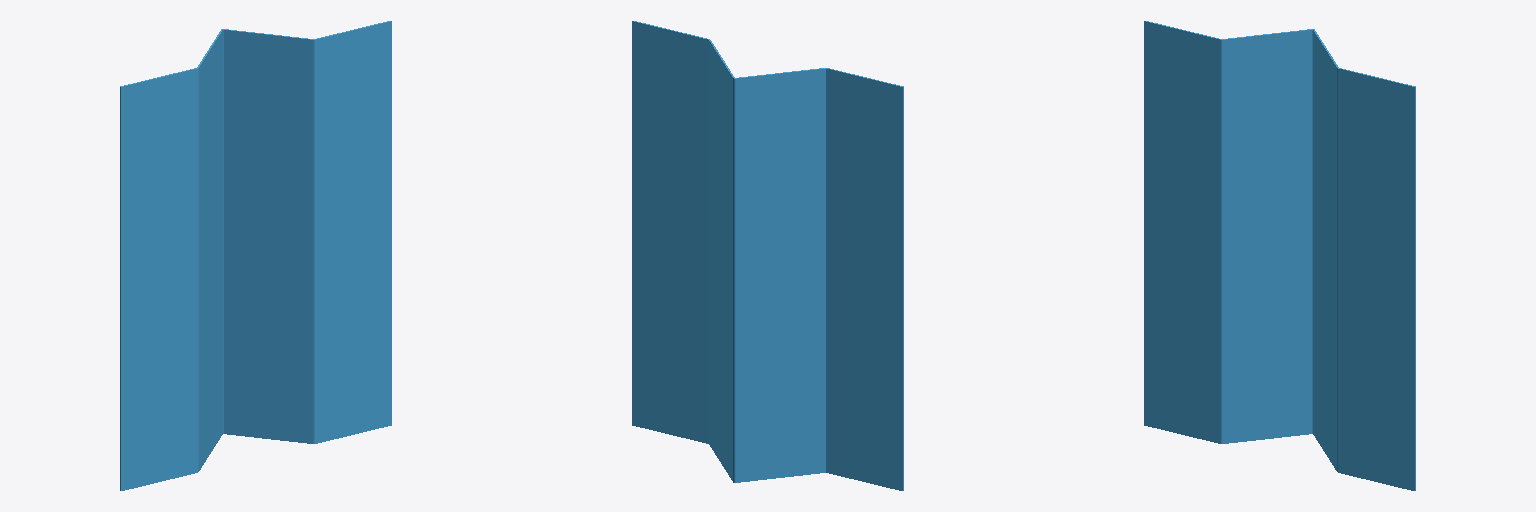
URDF robot description (pattern):
<?xml version="1.0"?>
<robot name="pattern">

    <link name="pattern_base_link" />

    <joint name="pattern_joint" type="fixed">
        <parent link="pattern_base_link" />
        <child link="pattern_mesh" />
        <origin xyz="0 0 0" rpy="0 0 0" />
    </joint>

    <link name="pattern_mesh">
        <visual>
            <origin xyz="-0.175 0.05 -0.25" rpy="1.5707 0 0" />
            <geometry>
                <mesh filename="package://pattern_matcher/meshes/pattern.stl"  scale="0.001 0.001 0.001"/>
            </geometry>
        </visual>

        <collision>
            <origin xyz="-0.175 0.05 -0.25" rpy="1.5707 0 0" />
            <geometry>
                <mesh filename="package://pattern_matcher/meshes/pattern.stl"  scale="0.001 0.001 0.001"/>
            </geometry>
        </collision>

        <inertial>
            <mass value="100.0" />
            <inertia ixx="1" ixy="0"  ixz="0" iyy="1" iyz="0" izz="1" />
        </inertial> 

    </link>

</robot>

--- What the picture shows (computed from the rendered views, not written in the file) ---
Views: 3 orthographic renders of the robot side by side, from view 1: azimuth 30°, elevation 25°; view 2: azimuth 150°, elevation 25°; view 3: azimuth 330°, elevation 25°.
Robot: pattern — 2 links, 1 joints (1 fixed); root link pattern_base_link; default pose: all joints at 0.
Visible links, largest first — view 1: pattern_mesh; view 2: pattern_mesh; view 3: pattern_mesh.
Link boxes in pixels (box(x1,y1,x2,y2)): pattern_mesh: box(120, 21, 391, 490); pattern_mesh: box(632, 21, 903, 490); pattern_mesh: box(1144, 21, 1415, 490).
Size in the robot's own frame: 0.35 by 0.0766 by 0.5 metres.
1 mesh visuals loaded from 1 distinct referenced files (1 binary STL).